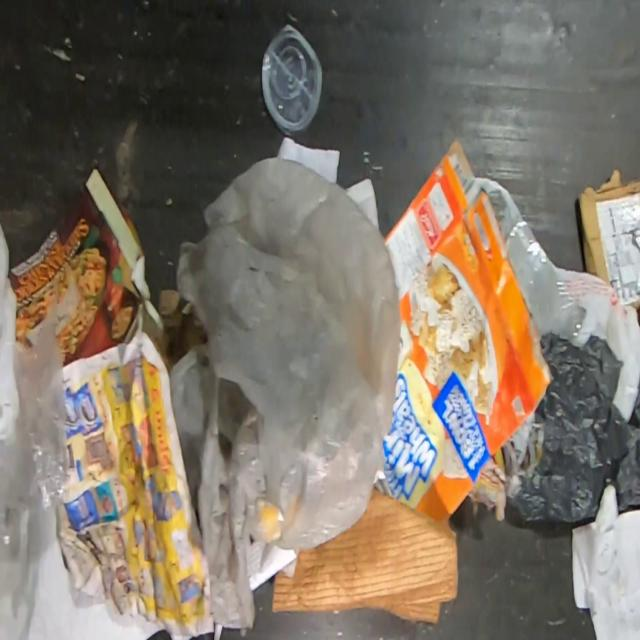cardboard: (378, 137, 553, 523), (577, 167, 640, 307)
rigid_plastic: (261, 23, 322, 135)
soft_plastic: (170, 159, 400, 628), (0, 216, 67, 640), (506, 331, 640, 522), (476, 174, 586, 343), (558, 266, 640, 420)
